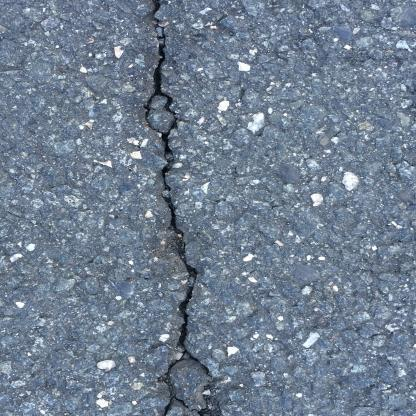Cracks: (143, 0, 216, 416)
